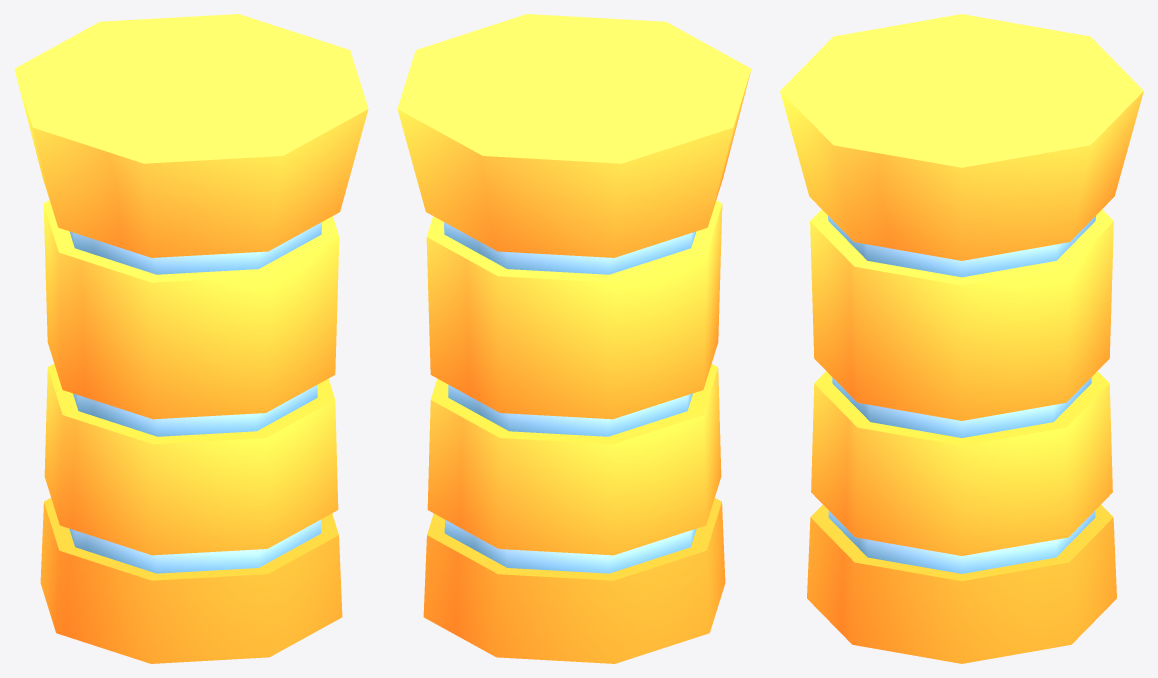
The model's file is gold_and_steel_grip_067.glb.
3 views of the same model, side by side, from view 1: azimuth 30°, elevation 25°; view 2: azimuth 150°, elevation 25°; view 3: azimuth 270°, elevation 25° (orthographic).
Parts seen in each view (by area): view 1: gold_and_steel_grip_067; view 2: gold_and_steel_grip_067; view 3: gold_and_steel_grip_067.
Part boxes in pixels (<box>): gold_and_steel_grip_067: <box>14,14,368,663</box>; gold_and_steel_grip_067: <box>397,14,751,663</box>; gold_and_steel_grip_067: <box>780,14,1143,663</box>.
Bounding box in the file's own units: 2.2 × 3.38 × 2.2.
Materials: 1 (1 with a texture image).
